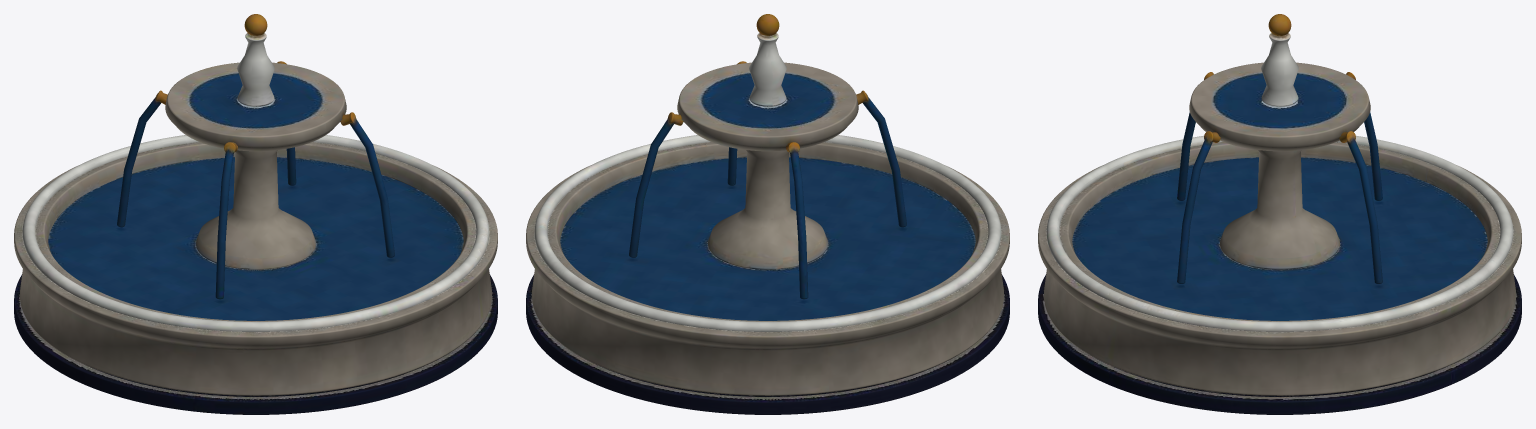
File: fountain.glb
3 views of the same model, side by side, from view 1: azimuth 30°, elevation 25°; view 2: azimuth 150°, elevation 25°; view 3: azimuth 270°, elevation 25° (orthographic).
Visible parts, largest first — view 1: fountain; view 2: fountain; view 3: fountain.
Part boxes in pixels (box(x1,y1,x2,y2)): fountain: box(14, 14, 497, 414); fountain: box(526, 14, 1009, 414); fountain: box(1038, 14, 1521, 414).
Bounding box in the file's own units: 2.56 × 1.74 × 2.56.
Materials: 1 (1 with a texture image).
